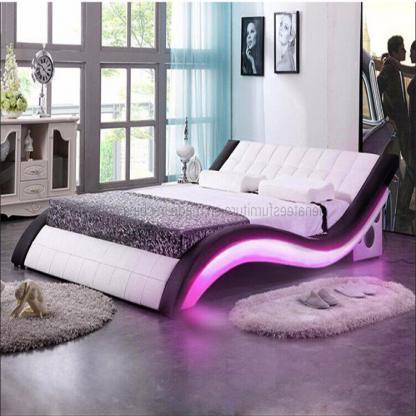bed: (22, 139, 394, 317)
clock: (24, 32, 58, 108)
door: (161, 0, 233, 181), (88, 3, 158, 188)
table: (0, 109, 82, 206)
